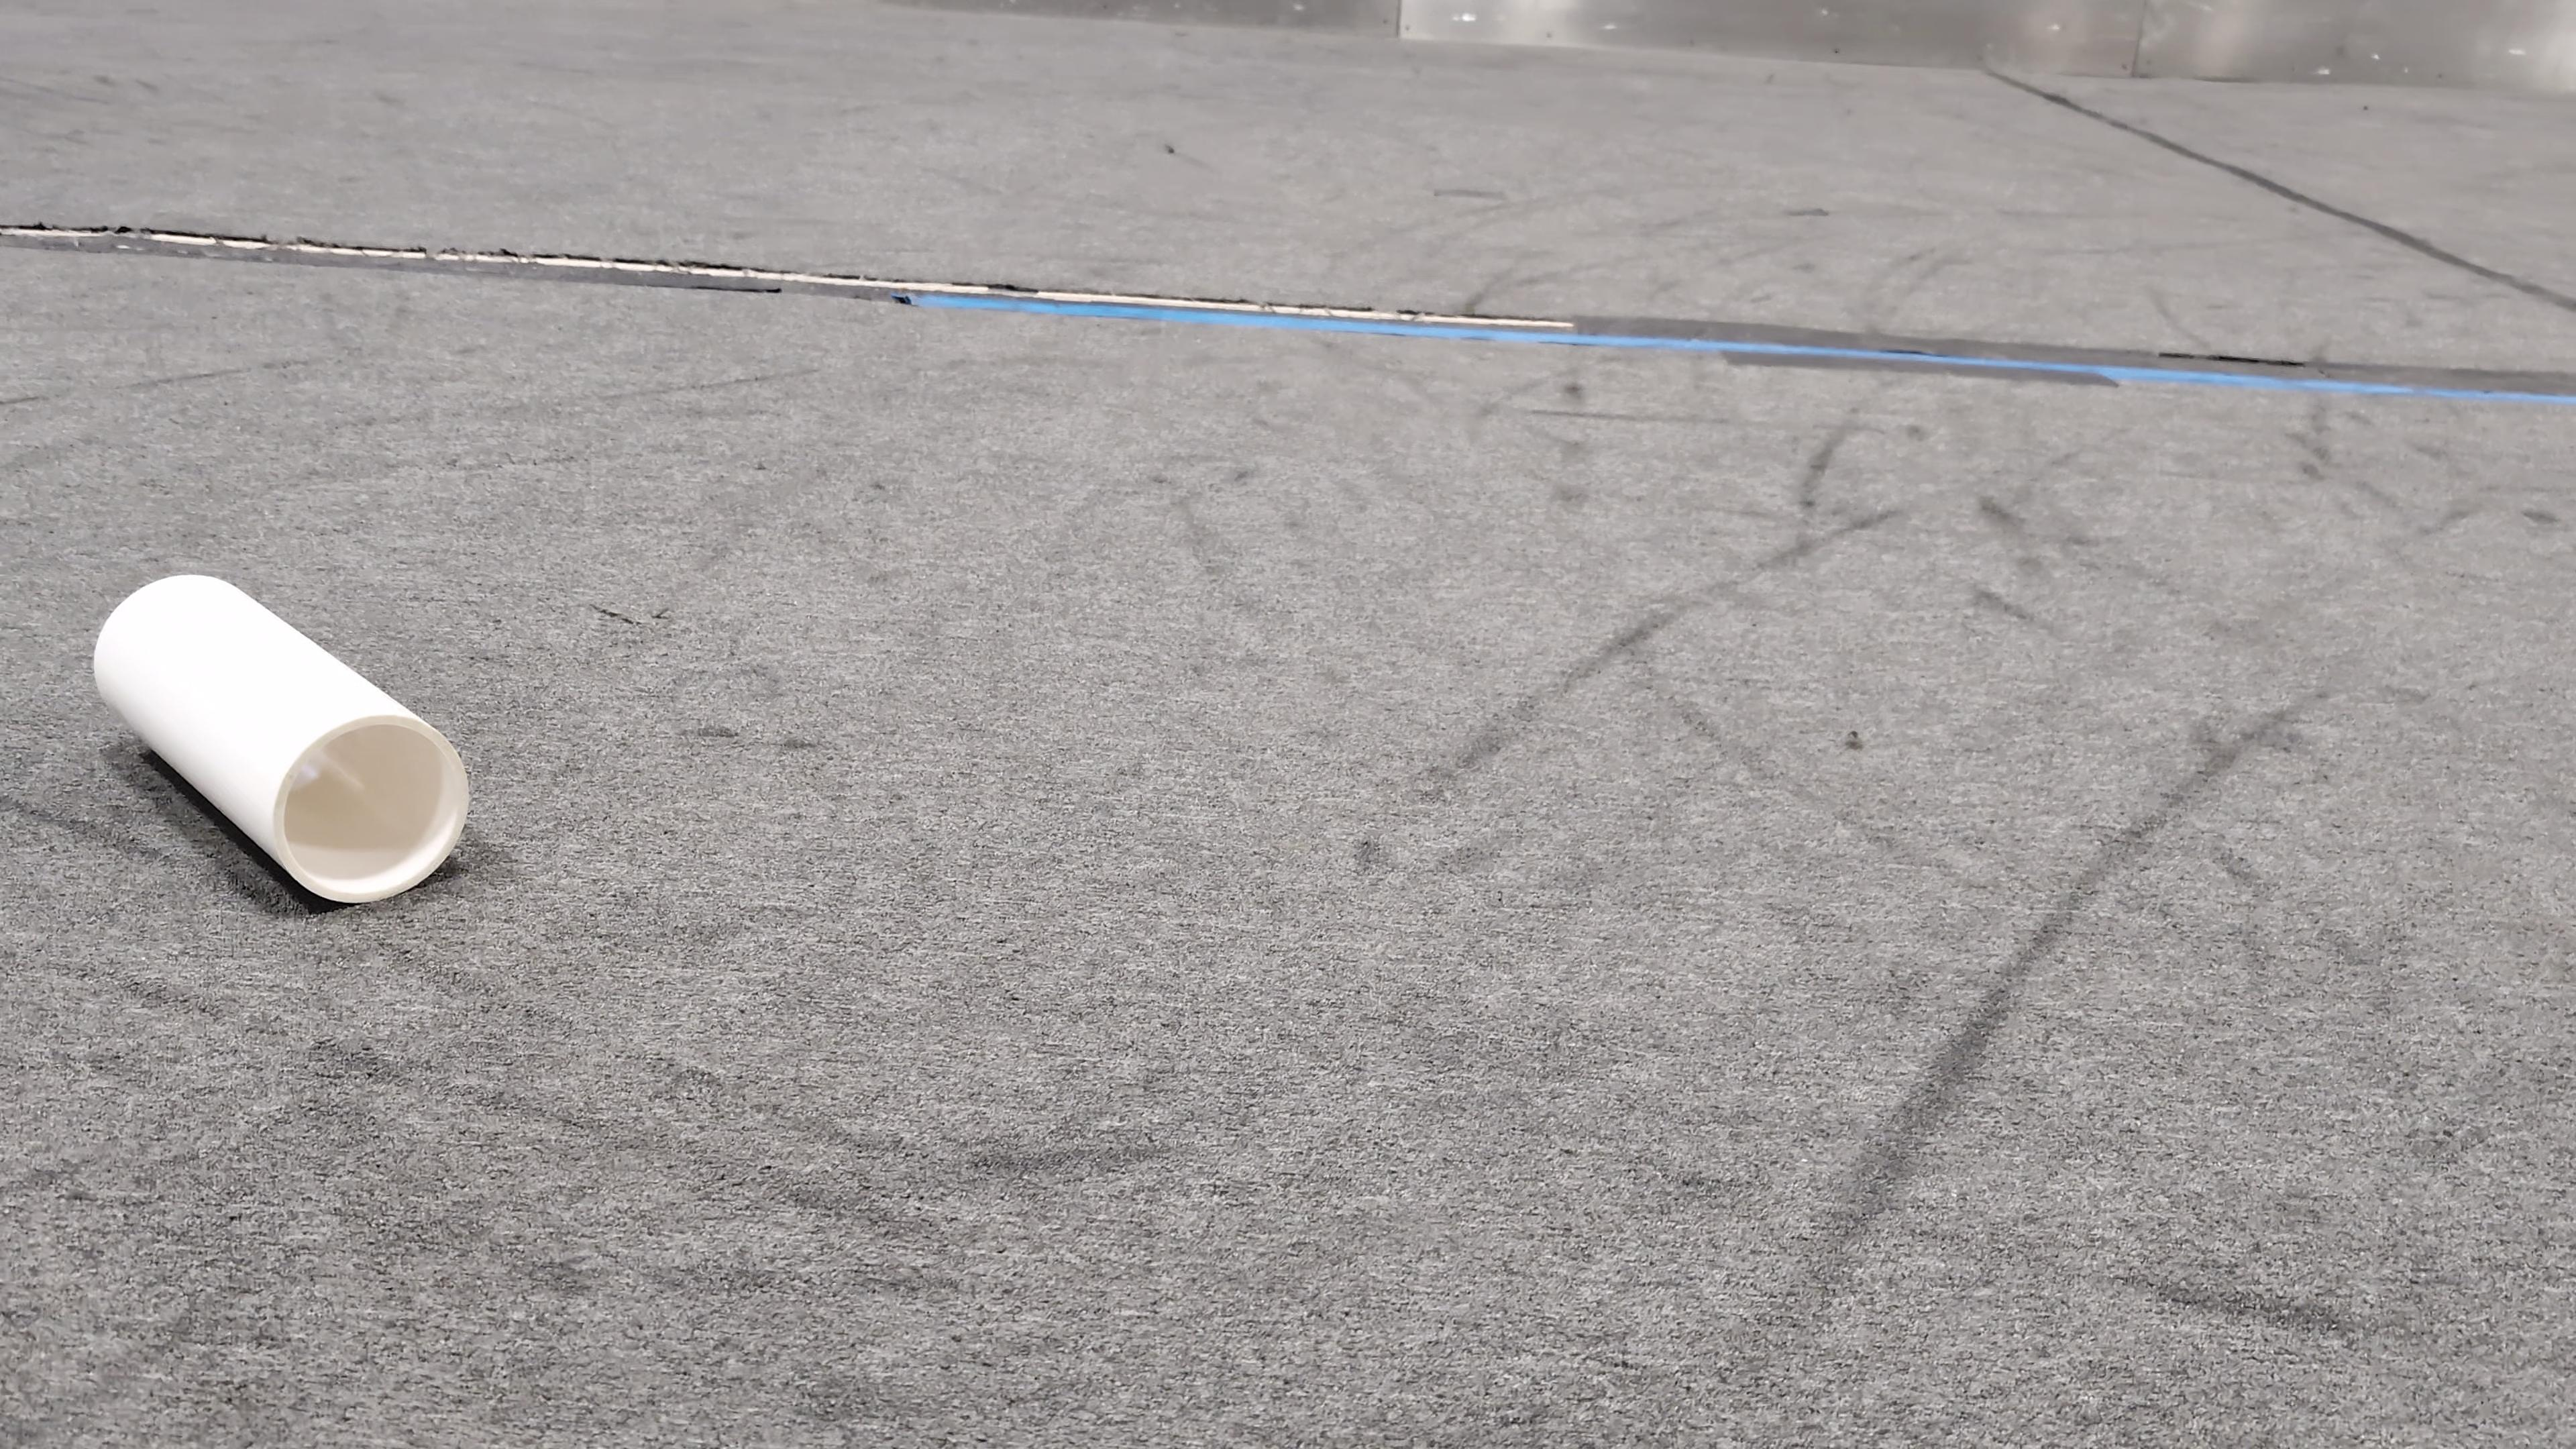coral: (92, 570, 472, 902)
